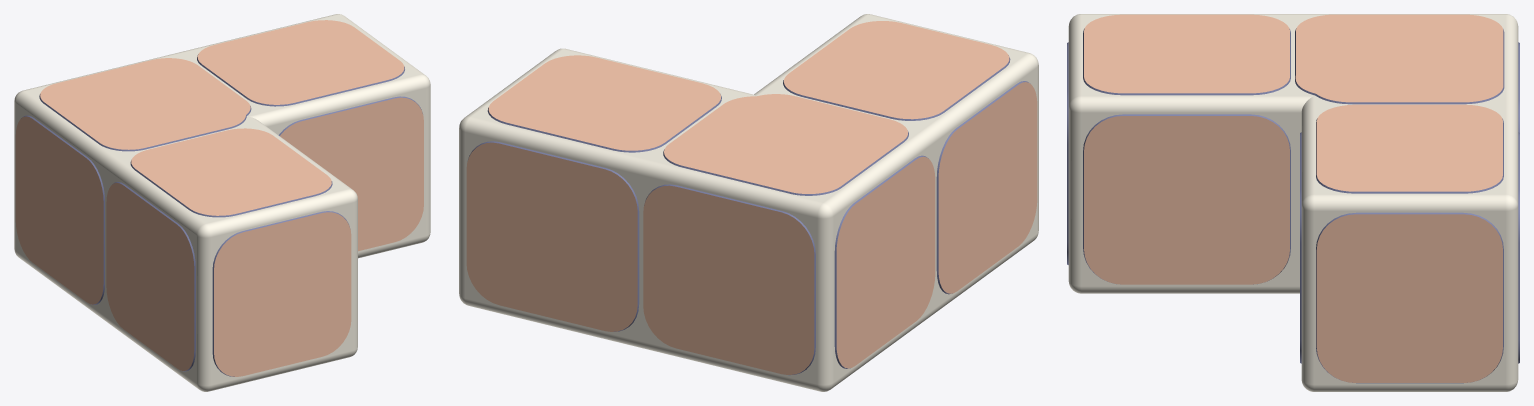
File: R4B_CornerL3.fbx
3 views of the same model, side by side, from view 1: azimuth 30°, elevation 25°; view 2: azimuth 150°, elevation 25°; view 3: azimuth 270°, elevation 25° (orthographic). The views are drawn at different scales.
Visible parts, largest first — view 1: R4B_CornerL3; view 2: R4B_CornerL3; view 3: R4B_CornerL3.
Boxes of the visible parts, x1,y1,x2,y2 form: R4B_CornerL3: [14, 14, 430, 391]; R4B_CornerL3: [459, 14, 1038, 391]; R4B_CornerL3: [1067, 14, 1519, 391].
Size of the model in its own units: 1.07 by 0.52 by 1.07.
